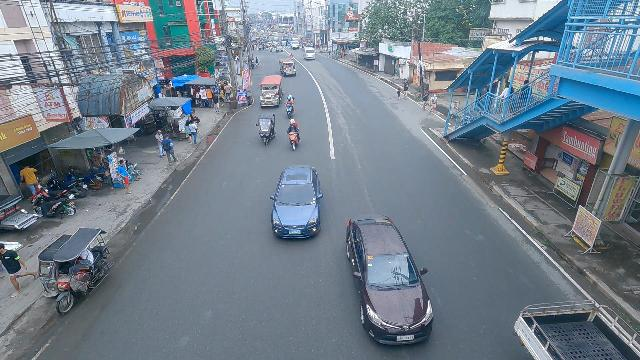car: (345, 214, 435, 348), (270, 163, 323, 240), (275, 45, 284, 52), (281, 39, 287, 47)
jeepney: (259, 75, 283, 108), (279, 58, 297, 77)
motorcycle: (286, 120, 301, 151), (284, 96, 296, 119), (249, 59, 255, 69), (269, 45, 273, 53), (289, 53, 294, 59)
van: (303, 47, 316, 61)
